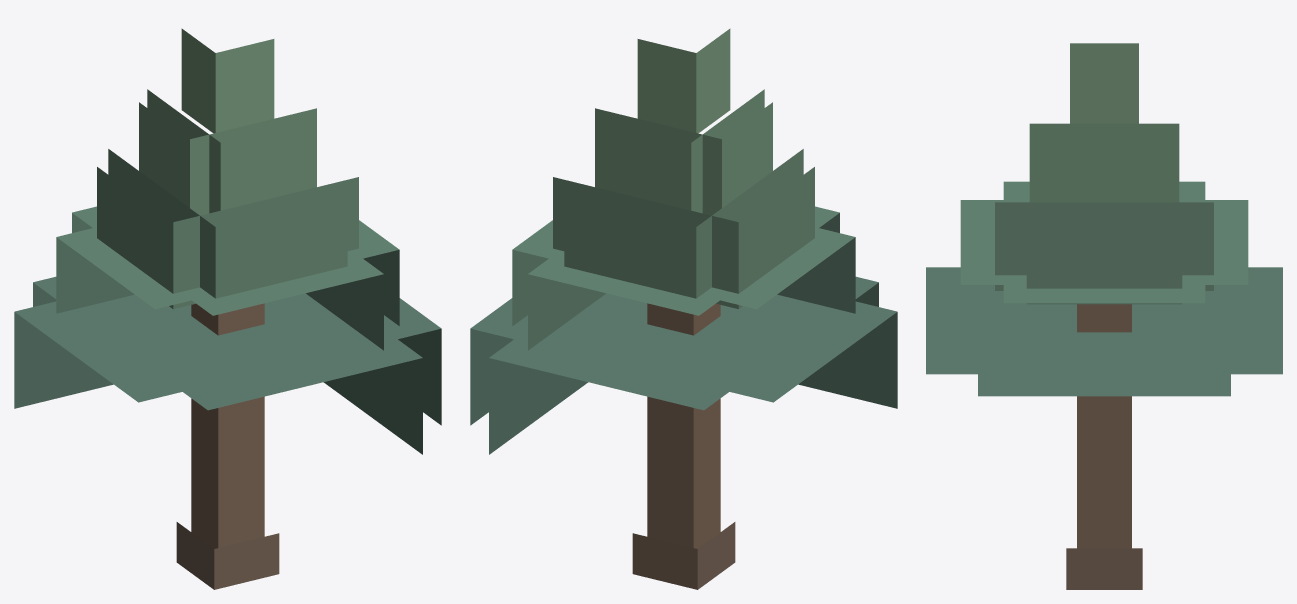
Rendered from tree_pine.glb.
3 renders of one model, left to right at view 1: azimuth 30°, elevation 25°; view 2: azimuth 150°, elevation 25°; view 3: azimuth 270°, elevation 25°, orthographic.
Visible parts, largest first — view 1: Foliage_Pine_Tier1, Foliage_Pine_Tier3, Foliage_Pine_Tier2, Foliage_Pine_Tier4, Trunk_Pine, Foliage_Pine_Spire, Trunk_Root; view 2: Foliage_Pine_Tier1, Foliage_Pine_Tier3, Foliage_Pine_Tier2, Foliage_Pine_Tier4, Trunk_Pine, Foliage_Pine_Spire, Trunk_Root; view 3: Foliage_Pine_Tier1, Foliage_Pine_Tier3, Foliage_Pine_Tier4, Foliage_Pine_Tier2, Trunk_Pine, Foliage_Pine_Spire, Trunk_Root.
Boxes of the visible parts, box(x1,y1,x2,y2) form: Foliage_Pine_Tier1: box(14, 276, 441, 454); Foliage_Pine_Tier3: box(97, 149, 358, 309); Foliage_Pine_Tier2: box(56, 206, 399, 350); Foliage_Pine_Tier4: box(139, 89, 316, 215); Trunk_Pine: box(191, 303, 264, 548); Foliage_Pine_Spire: box(181, 28, 274, 133); Trunk_Root: box(176, 522, 279, 589); Foliage_Pine_Tier1: box(470, 276, 897, 454); Foliage_Pine_Tier3: box(553, 149, 814, 309); Foliage_Pine_Tier2: box(512, 206, 855, 350); Foliage_Pine_Tier4: box(595, 89, 772, 215); Trunk_Pine: box(647, 303, 720, 548); Foliage_Pine_Spire: box(637, 28, 730, 133); Trunk_Root: box(632, 522, 735, 589); Foliage_Pine_Tier1: box(926, 267, 1282, 396); Foliage_Pine_Tier3: box(995, 202, 1213, 304); Foliage_Pine_Tier4: box(1029, 123, 1179, 202); Foliage_Pine_Tier2: box(960, 181, 1248, 303); Trunk_Pine: box(1077, 304, 1131, 548); Foliage_Pine_Spire: box(1070, 43, 1138, 123); Trunk_Root: box(1066, 548, 1142, 589).
Size of the model in its own units: 1.24 by 2.09 by 1.24.
